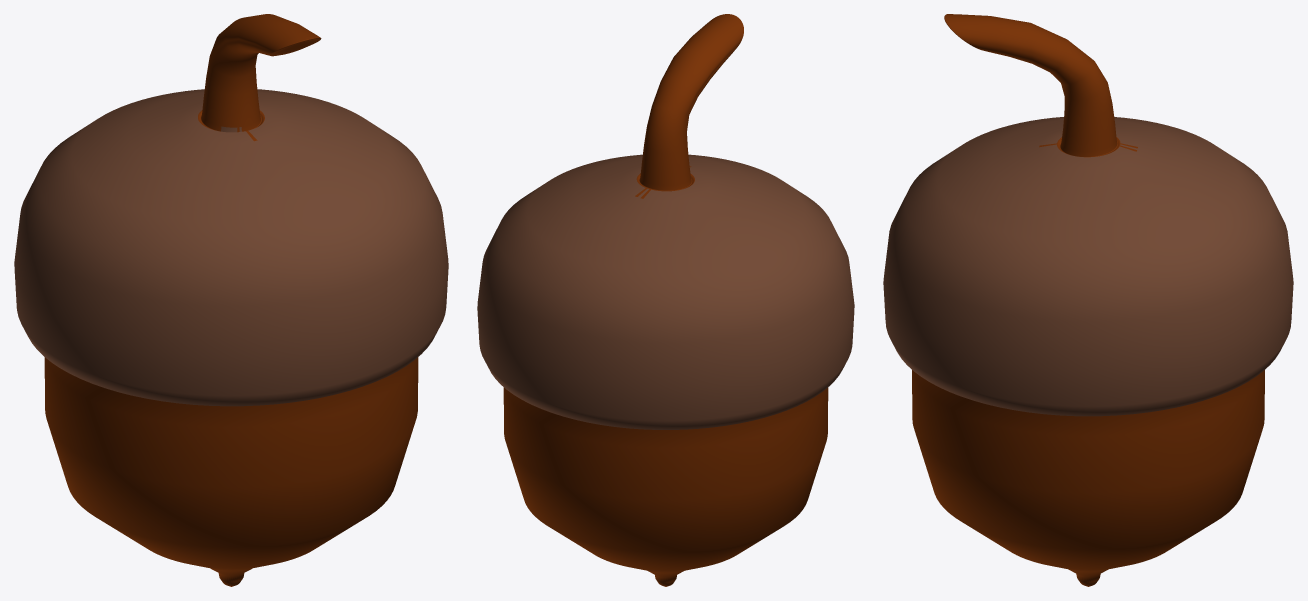
The model's file is Acorn.glb.
The picture shows the model from 3 angles, left to right: view 1: azimuth 30°, elevation 25°; view 2: azimuth 150°, elevation 25°; view 3: azimuth 270°, elevation 25°; orthographic projection. The views are drawn at different scales.
Parts seen in each view (by area): view 1: acorn_mesh; view 2: acorn_mesh; view 3: acorn_mesh.
Part boxes in pixels (x1=…): acorn_mesh: x1=14, y1=14, x2=448, y2=586; acorn_mesh: x1=477, y1=14, x2=854, y2=586; acorn_mesh: x1=883, y1=14, x2=1293, y2=586.
Bounding box in the file's own units: 2.32 × 3.56 × 2.32.
